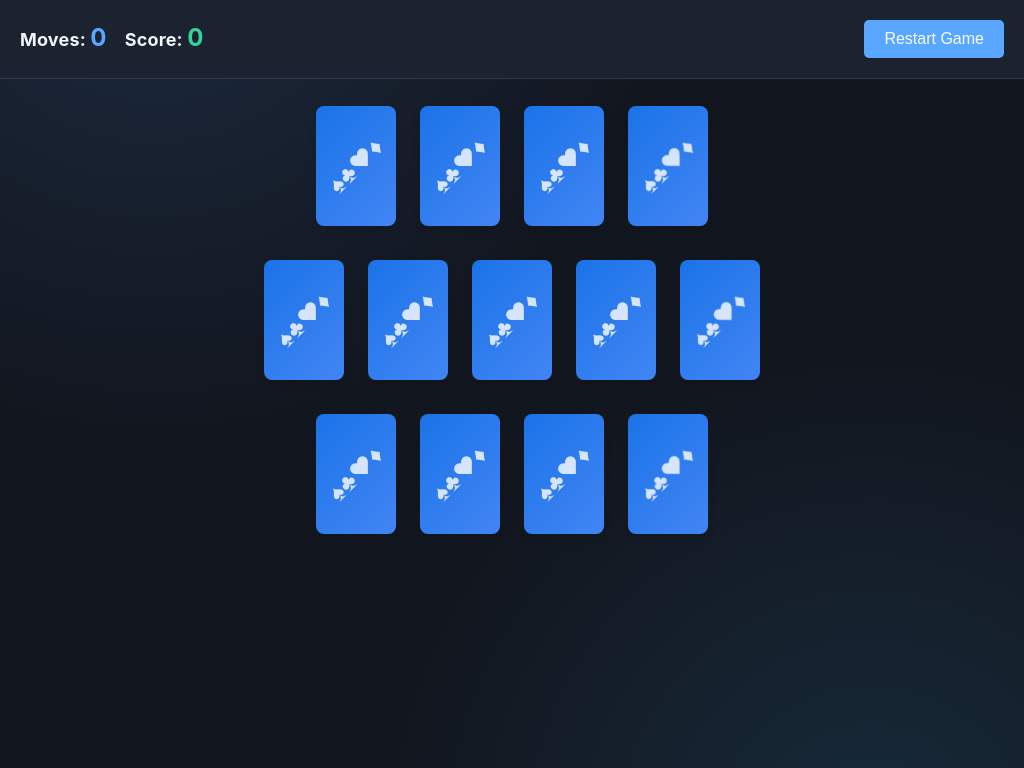
Test: App › iki farklı gruptan kart seçildiğinde hamle sayısını artırır
This screenshot has width=1024, height=768.
Click the 1st element with class "hidden".
click(356, 166)  # box [316,106,396,226]
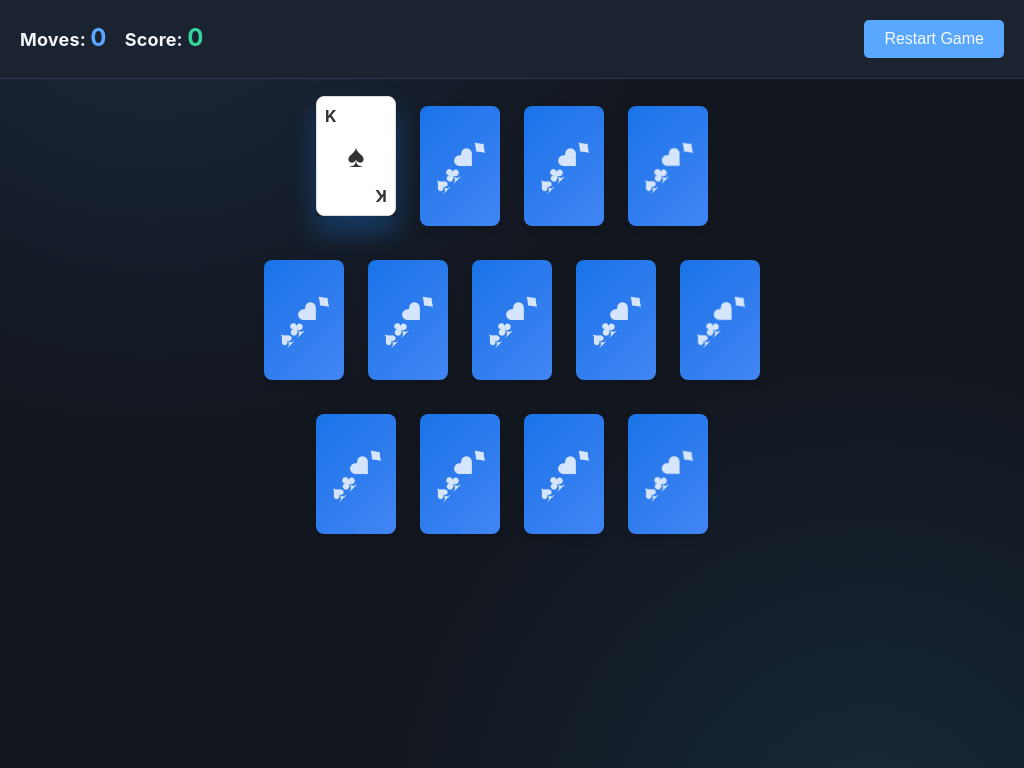
Click the 1st element with class "hidden".
click(460, 166)  # box [420,106,500,226]
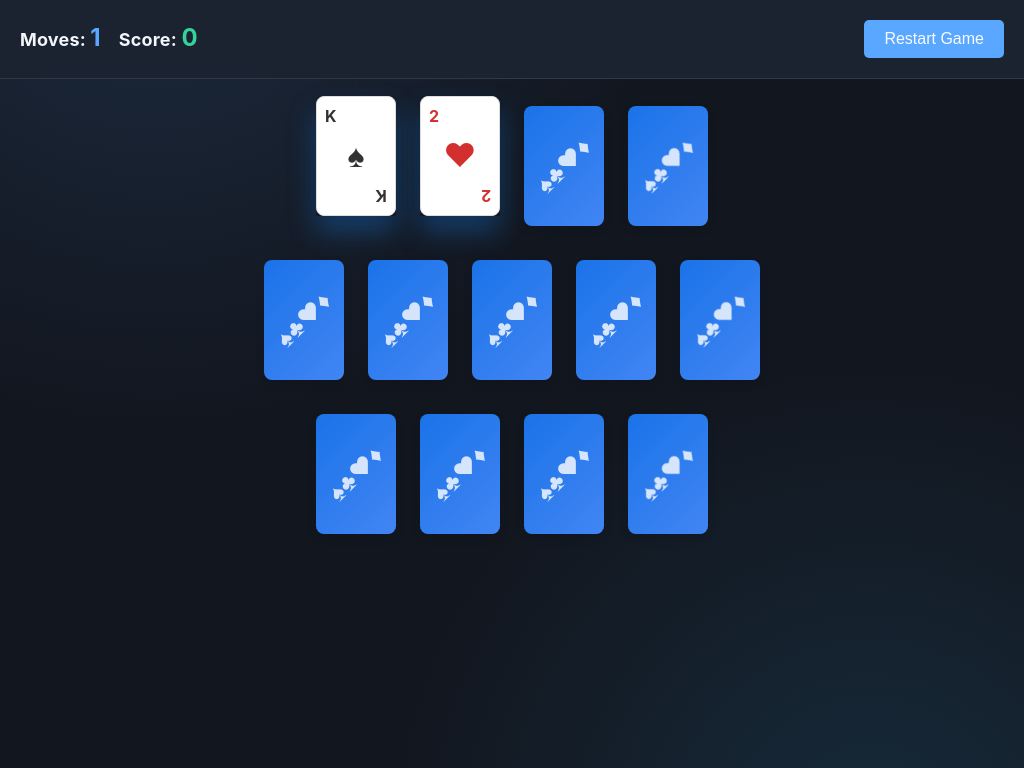
Result: the text with class "move-count" reads "1" at [90,23,101,52]
